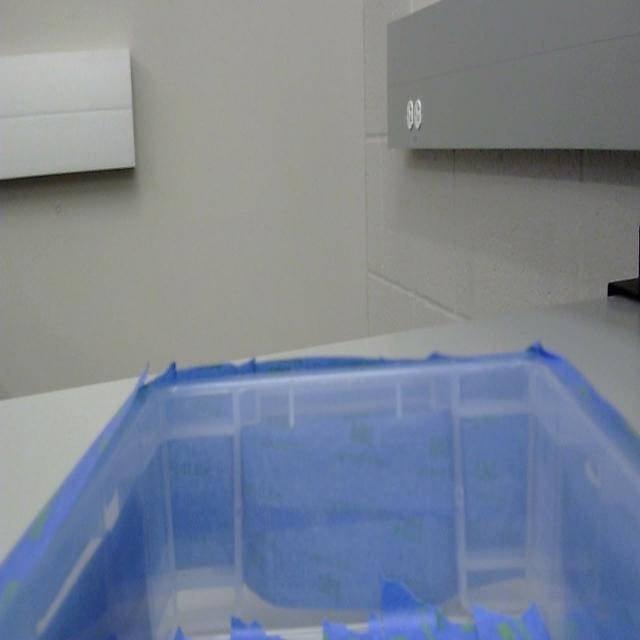bucket: (0, 337, 640, 640)
